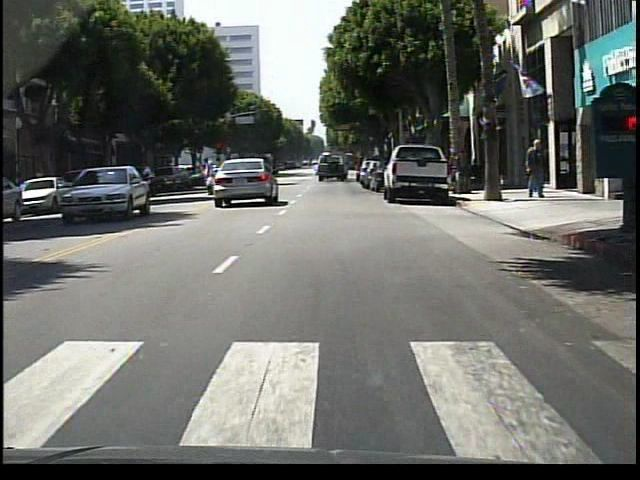person: (526, 137, 549, 200), (529, 146, 544, 197), (205, 157, 221, 201)
